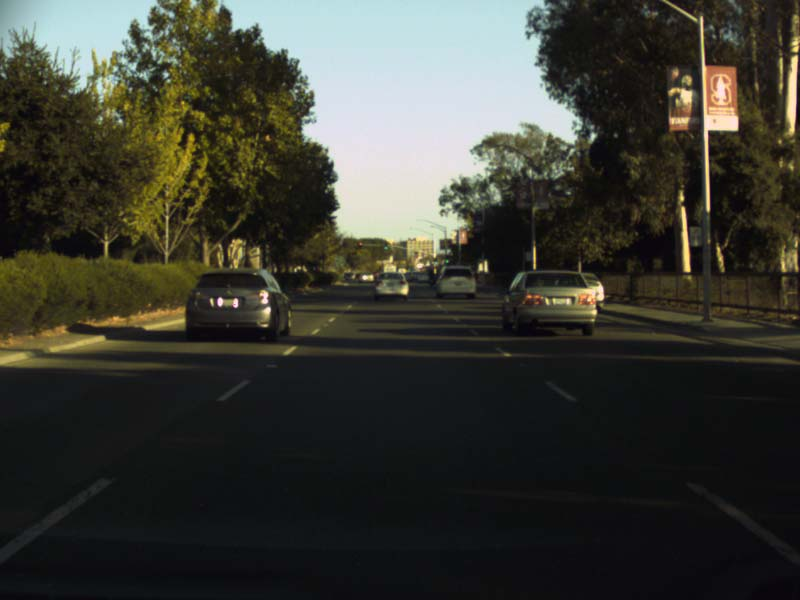Green: (383, 242, 387, 250), (445, 257, 449, 263)
Red: (358, 240, 363, 248)
